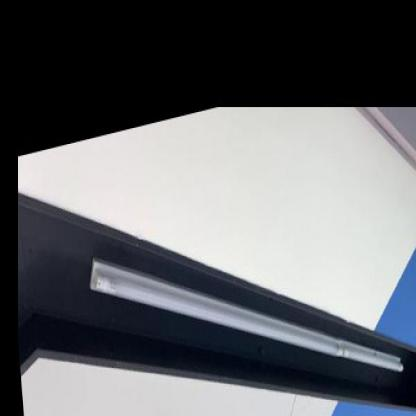light_off: (82, 170, 411, 415)
